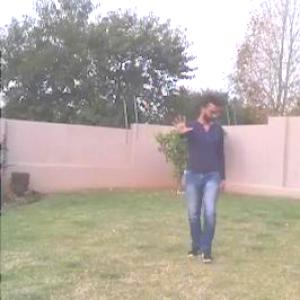follow_hand: (167, 110, 194, 136)
